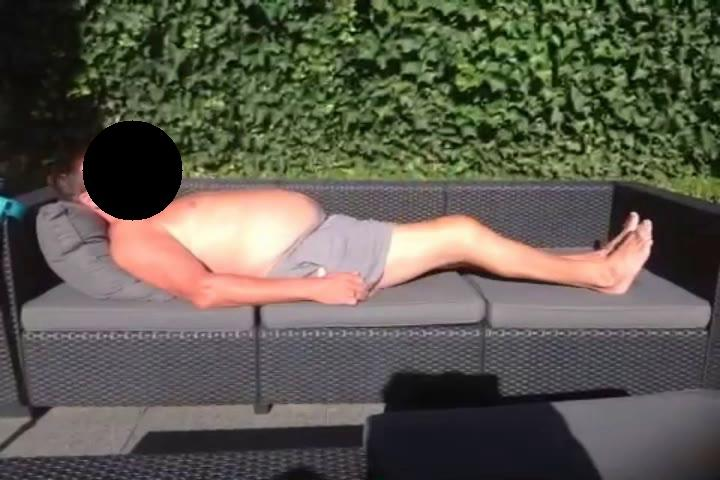lower_body: (307, 211, 655, 300)
